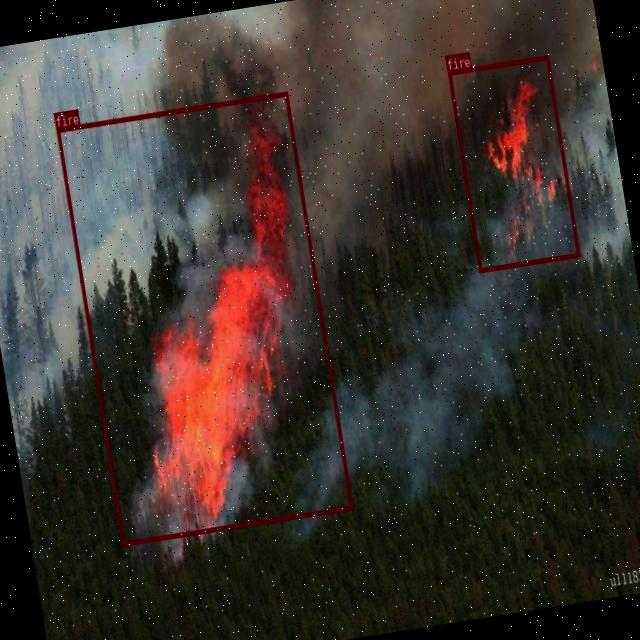fire: (56, 91, 353, 545), (447, 55, 580, 272)
